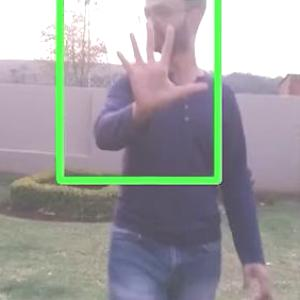follow_hand: (112, 12, 210, 116)
